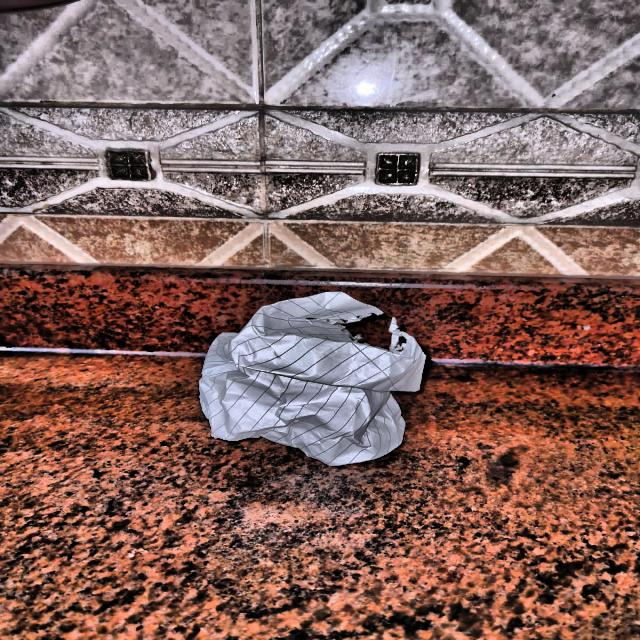Paper: (186, 290, 437, 468)
